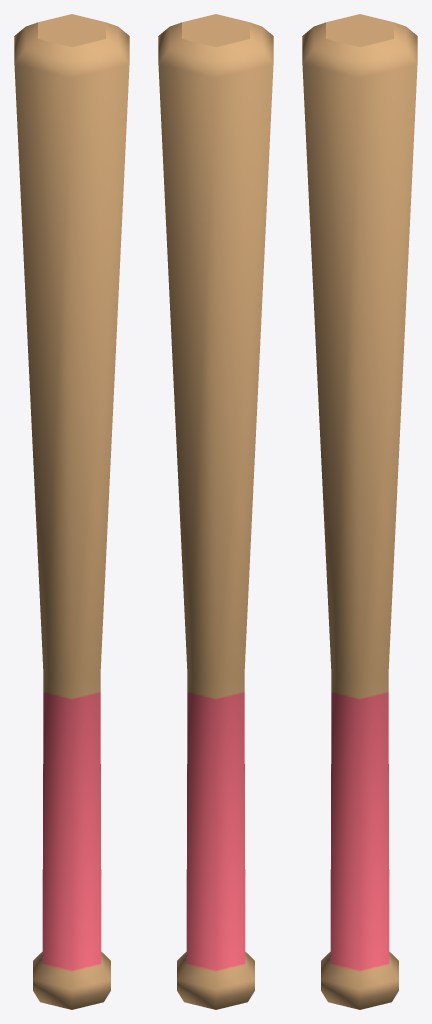
File: mode_baseball_bat.FBX
3 renders of one model, left to right at view 1: azimuth 90°, elevation 25°; view 2: azimuth 150°, elevation 25°; view 3: azimuth 270°, elevation 25°, orthographic.
Parts seen in each view (by area): view 1: Cylinder001; view 2: Cylinder001; view 3: Cylinder001.
Part boxes in pixels (x1=…): Cylinder001: x1=14, y1=14, x2=129, y2=1009; Cylinder001: x1=158, y1=14, x2=273, y2=1009; Cylinder001: x1=302, y1=14, x2=417, y2=1009.
Size of the model in its own units: 10 by 80 by 8.66.
